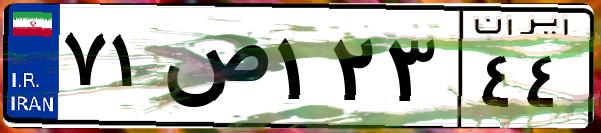1: (270, 28, 330, 110), (110, 28, 158, 98)
2: (330, 28, 385, 110)
3: (385, 28, 445, 110)
4: (475, 38, 525, 113), (525, 38, 570, 115)
7: (57, 26, 110, 100)
ص: (158, 20, 270, 120)
